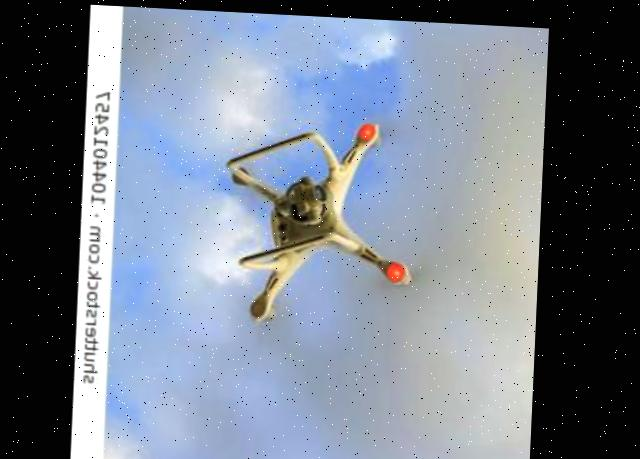drone: (193, 8, 467, 437)
